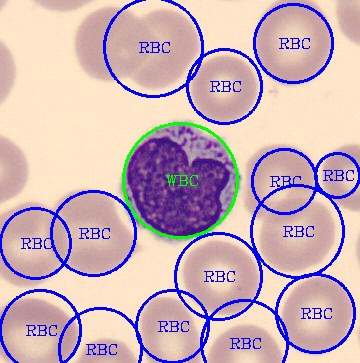RBC: (50, 185, 142, 277), (253, 0, 334, 89), (70, 4, 151, 85), (180, 236, 261, 316), (242, 139, 318, 223), (128, 6, 201, 93), (0, 199, 68, 290), (259, 194, 337, 272), (280, 274, 354, 356), (0, 295, 81, 362), (189, 52, 259, 125), (140, 293, 203, 361), (205, 322, 285, 362), (323, 142, 359, 213)
WBC: (120, 118, 241, 244)
